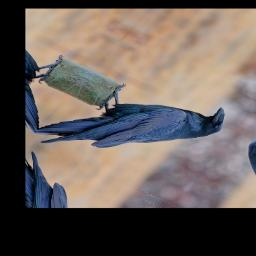Crow: (30, 55, 238, 198)
